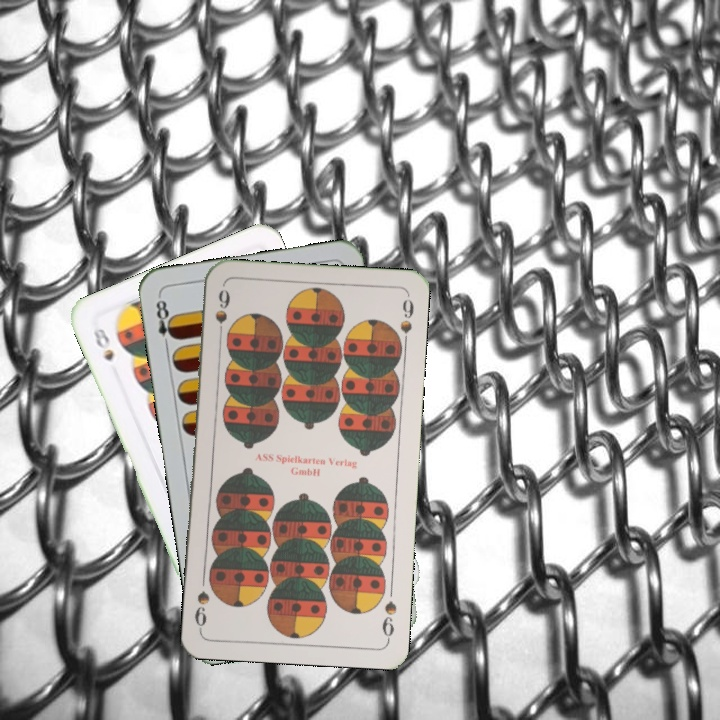E8: (151, 293, 179, 352)
S8: (89, 323, 117, 364)
S9: (211, 286, 232, 343), (377, 597, 399, 643)
